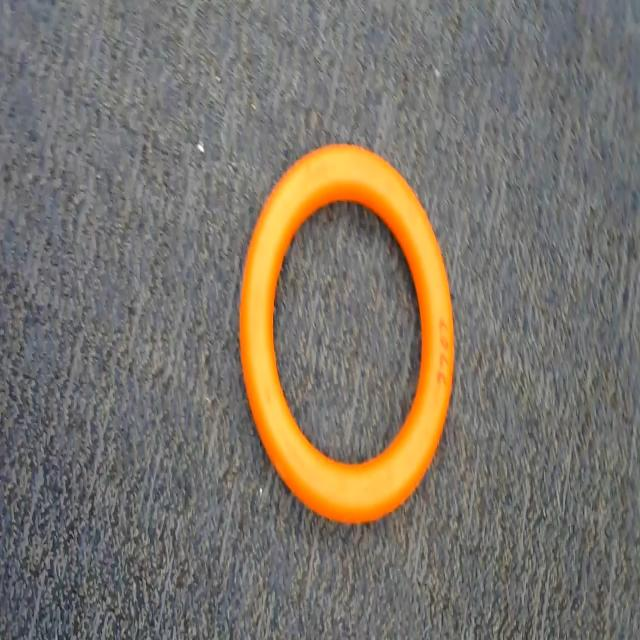note: (215, 115, 486, 548)
